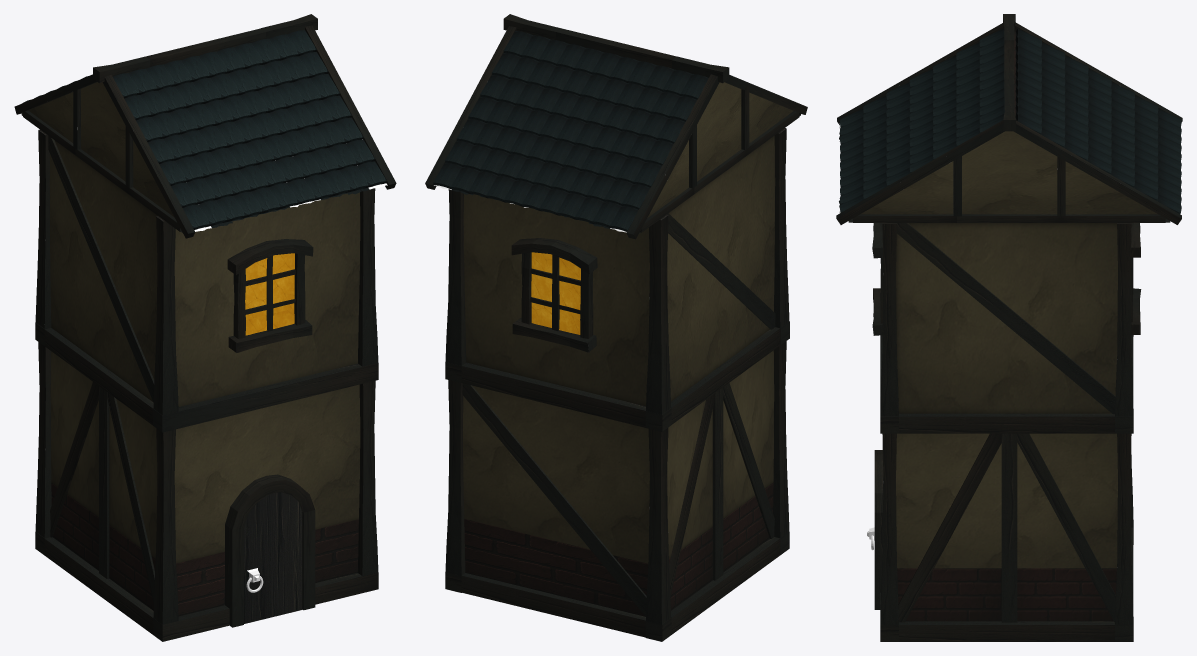
File: house_001.glb
The picture shows the model from 3 angles, left to right: view 1: azimuth 30°, elevation 25°; view 2: azimuth 150°, elevation 25°; view 3: azimuth 270°, elevation 25°; orthographic projection.
Visible parts, largest first — view 1: Normal.House; view 2: Normal.House; view 3: Normal.House.
Boxes of the visible parts, x1,y1,x2,y2 form: Normal.House: (14, 14, 396, 641); Normal.House: (425, 14, 807, 641); Normal.House: (836, 14, 1182, 641).
Bounding box in the file's own units: 3.44 × 7.9 × 4.74.
Materials: 2 (2 with a texture image).
